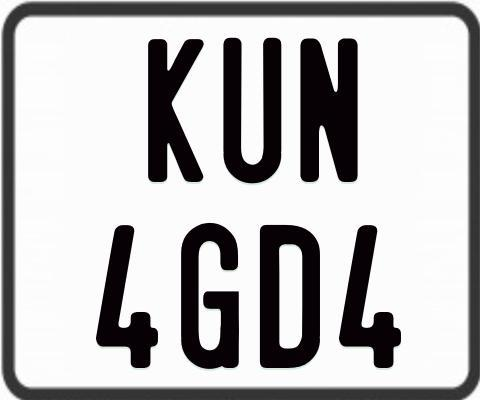4: (96, 224, 164, 372), (338, 223, 405, 367)
D: (257, 223, 317, 368)
G: (181, 221, 242, 371)
K: (147, 39, 203, 184)
N: (298, 38, 356, 186)
U: (223, 35, 284, 183)
